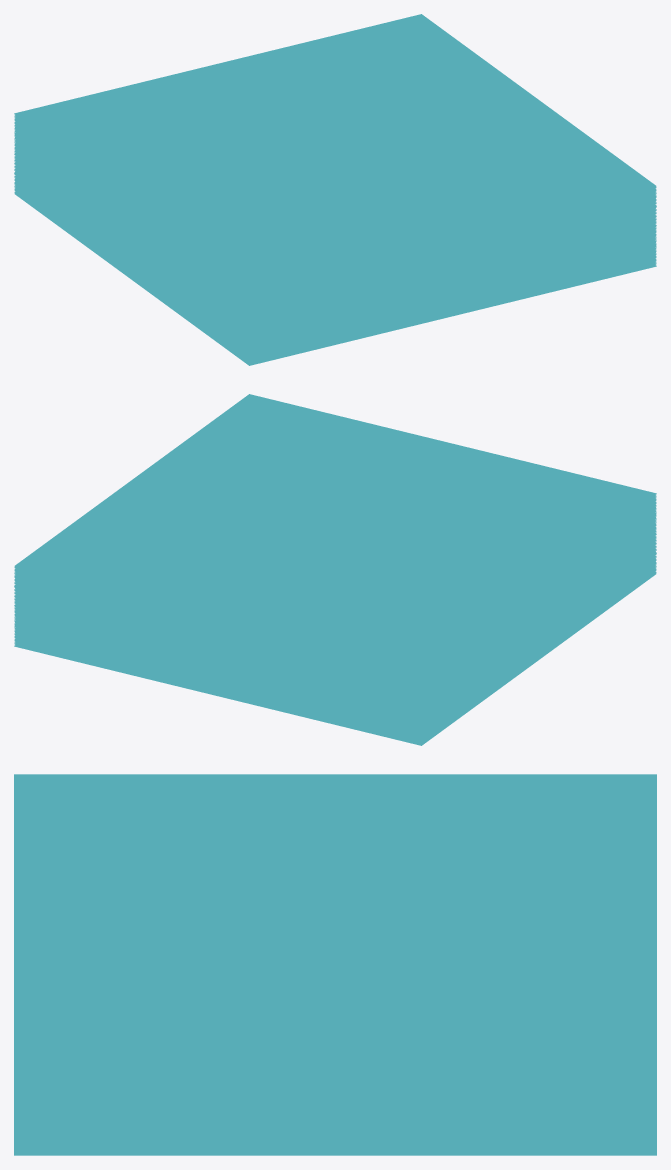
File: binder.glb
3 views of the same model, one above another, from view 1: azimuth 30°, elevation 25°; view 2: azimuth 150°, elevation 25°; view 3: azimuth 270°, elevation 25° (orthographic). The views are drawn at different scales.
Visible parts, largest first — view 1: Plane.056_56, Plane.034_34, Plane.035_35, Plane.036_36, Plane.045_45, Plane.032_32, Plane.033_33, Plane.037_37, Plane.042_42, Plane.038_38, Plane.039_39, Plane.041_41 (+46 smaller); view 2: Plane.056_56, Plane.034_34, Plane.035_35, Plane.036_36, Plane.045_45, Plane.032_32, Plane.033_33, Plane.037_37, Plane.042_42, Plane.038_38, Plane.039_39, Plane.041_41 (+46 smaller); view 3: Plane.056_56, Plane_0, Plane.002_1, Plane.010_5, Plane.020_10, Plane.028_14, Plane.030_15, Plane.001_16, Plane.003_17, Plane.009_20, Plane.011_21, Plane.023_27 (+48 smaller).
Part boxes in pixels (x1=…): Plane.056_56: x1=14, y1=14, x2=656, y2=285; Plane.034_34: x1=14, y1=171, x2=656, y2=344; Plane.035_35: x1=14, y1=161, x2=656, y2=333; Plane.036_36: x1=14, y1=152, x2=656, y2=324; Plane.045_45: x1=14, y1=166, x2=656, y2=338; Plane.032_32: x1=14, y1=192, x2=656, y2=364; Plane.033_33: x1=14, y1=181, x2=656, y2=354; Plane.037_37: x1=14, y1=142, x2=656, y2=314; Plane.042_42: x1=14, y1=136, x2=656, y2=308; Plane.038_38: x1=14, y1=132, x2=656, y2=304; Plane.039_39: x1=14, y1=122, x2=656, y2=294; Plane.041_41: x1=14, y1=126, x2=656, y2=298; Plane.056_56: x1=14, y1=394, x2=656, y2=665; Plane.034_34: x1=14, y1=551, x2=656, y2=724; Plane.035_35: x1=14, y1=541, x2=656, y2=713; Plane.036_36: x1=14, y1=532, x2=656, y2=704; Plane.045_45: x1=14, y1=546, x2=656, y2=718; Plane.032_32: x1=14, y1=572, x2=656, y2=744; Plane.033_33: x1=14, y1=561, x2=656, y2=734; Plane.037_37: x1=14, y1=522, x2=656, y2=694; Plane.042_42: x1=14, y1=516, x2=656, y2=688; Plane.038_38: x1=14, y1=512, x2=656, y2=684; Plane.039_39: x1=14, y1=502, x2=656, y2=674; Plane.041_41: x1=14, y1=506, x2=656, y2=678; Plane.056_56: x1=14, y1=774, x2=656, y2=1045; Plane_0: x1=14, y1=1153, x2=656, y2=1155; Plane.002_1: x1=14, y1=1139, x2=656, y2=1141; Plane.010_5: x1=14, y1=1085, x2=656, y2=1087; Plane.020_10: x1=14, y1=1077, x2=656, y2=1079; Plane.028_14: x1=14, y1=1131, x2=656, y2=1133; Plane.030_15: x1=14, y1=1145, x2=656, y2=1147; Plane.001_16: x1=14, y1=1149, x2=656, y2=1151; Plane.003_17: x1=14, y1=1135, x2=656, y2=1137; Plane.009_20: x1=14, y1=1095, x2=656, y2=1097; Plane.011_21: x1=14, y1=1081, x2=656, y2=1083; Plane.023_27: x1=14, y1=1087, x2=656, y2=1089.
Bounding box in the file's own units: 20 × 3.76 × 20.
1 material, 1 textured.
